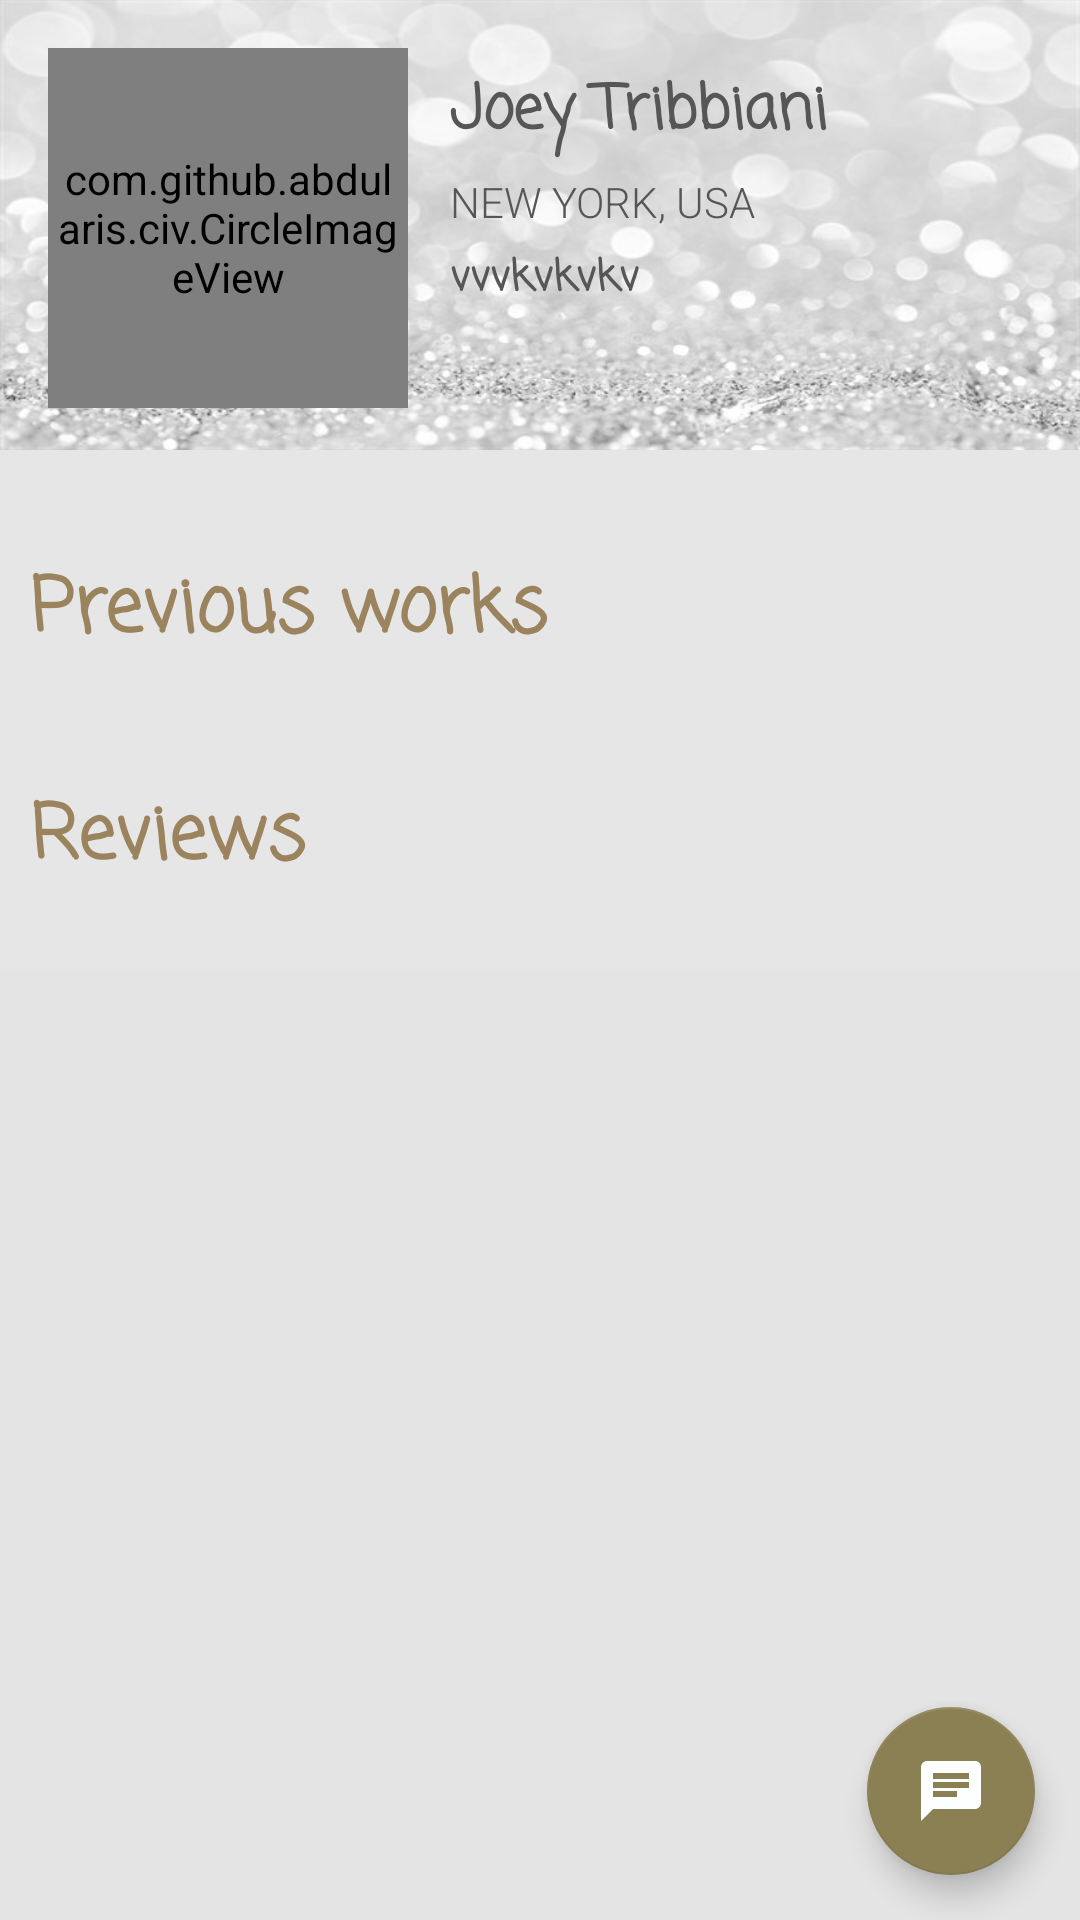

Icons on this 1080w x 1920h Android screen, each with the point to tap as [x,y]:
message action: [951,1791]
